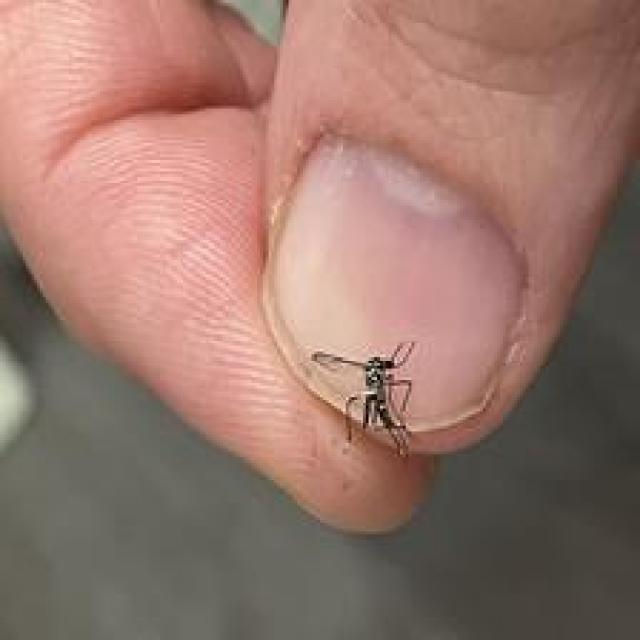Aedes albopictus: (310, 338, 419, 458)
